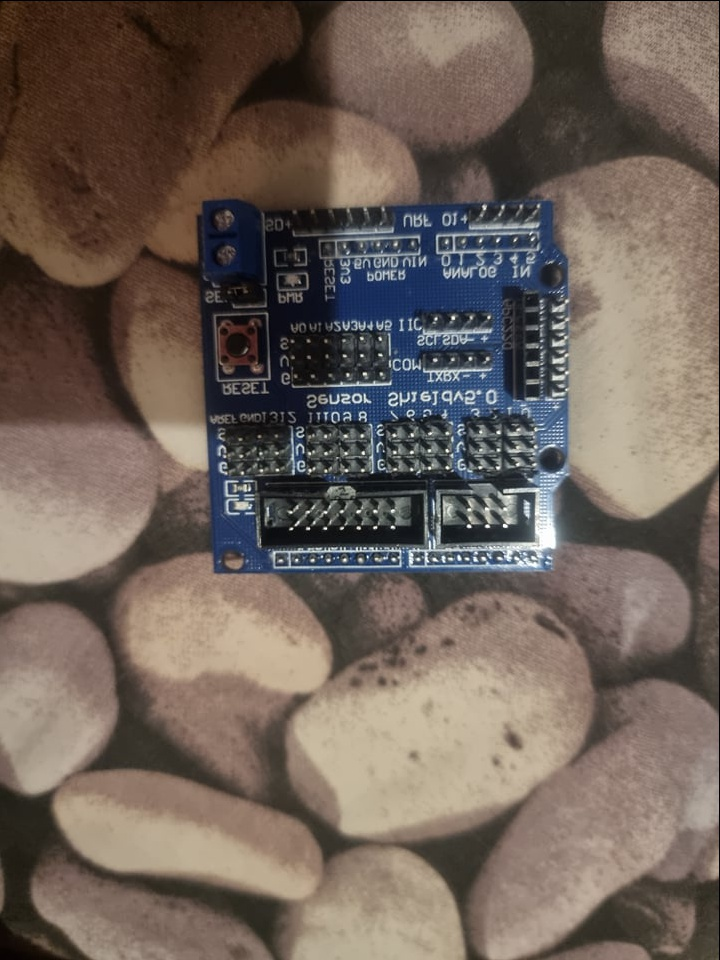5V EXPANSION: (191, 187, 574, 573)
